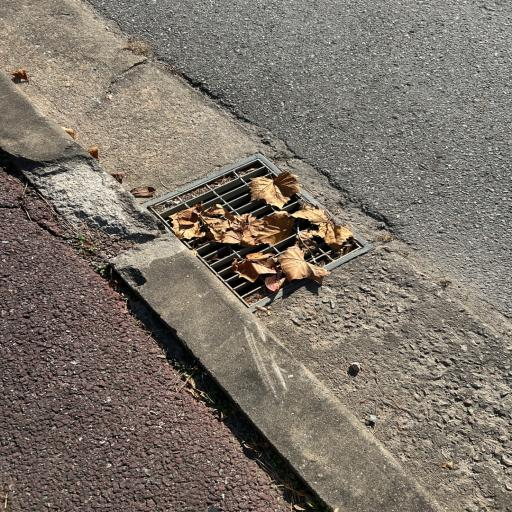debris: (245, 292, 263, 303), (216, 177, 232, 185)
drain: (152, 158, 364, 304)
